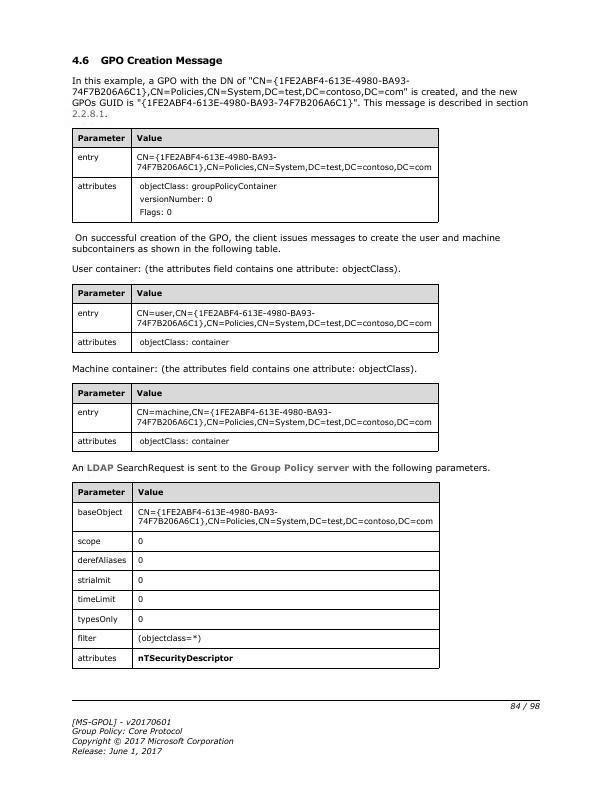table: (72, 481, 441, 670), (73, 128, 440, 223), (73, 283, 441, 355), (71, 384, 440, 453)
text: (69, 74, 530, 120), (71, 232, 501, 254), (68, 714, 235, 757), (70, 462, 492, 475), (70, 360, 421, 375), (70, 260, 402, 275), (70, 54, 225, 69)
